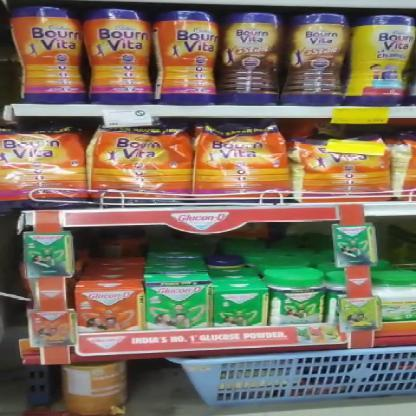Glucon D Regular 1-KG: (137, 284, 203, 334), (207, 290, 262, 332)
Glucon D Regular 2-KG: (270, 272, 326, 329)
Glucon D Tangy orange 1-KG: (71, 283, 136, 337)
